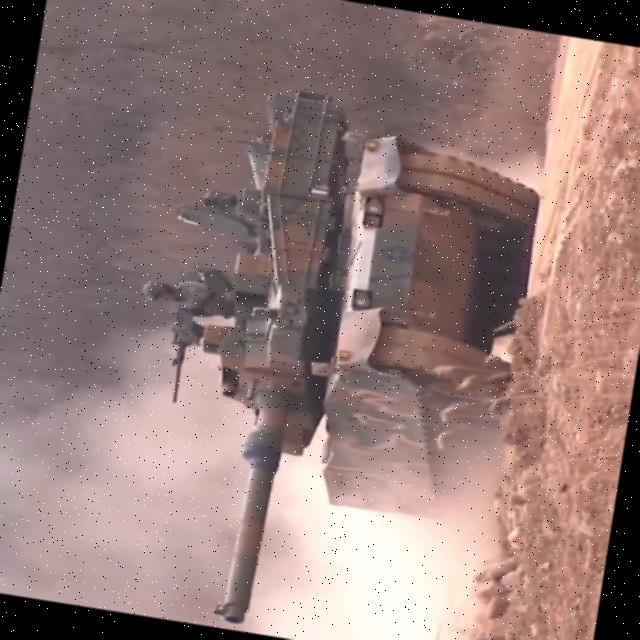korea tank: (92, 69, 550, 640)
